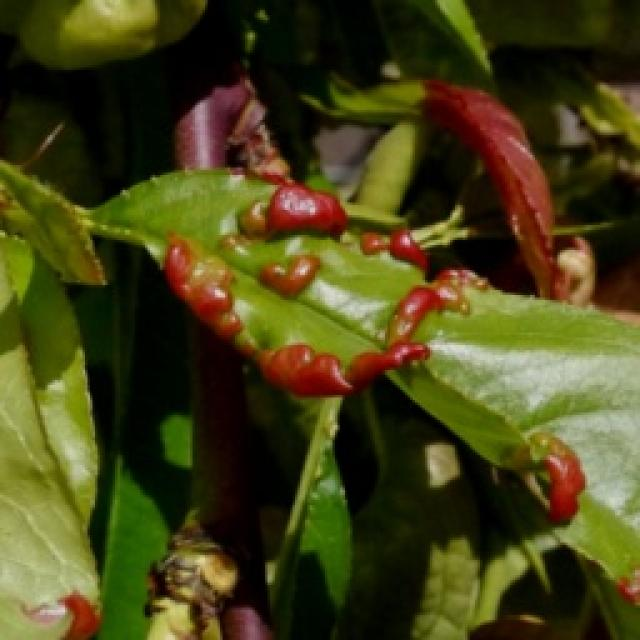peach_leaf_curl: (140, 153, 458, 404)
